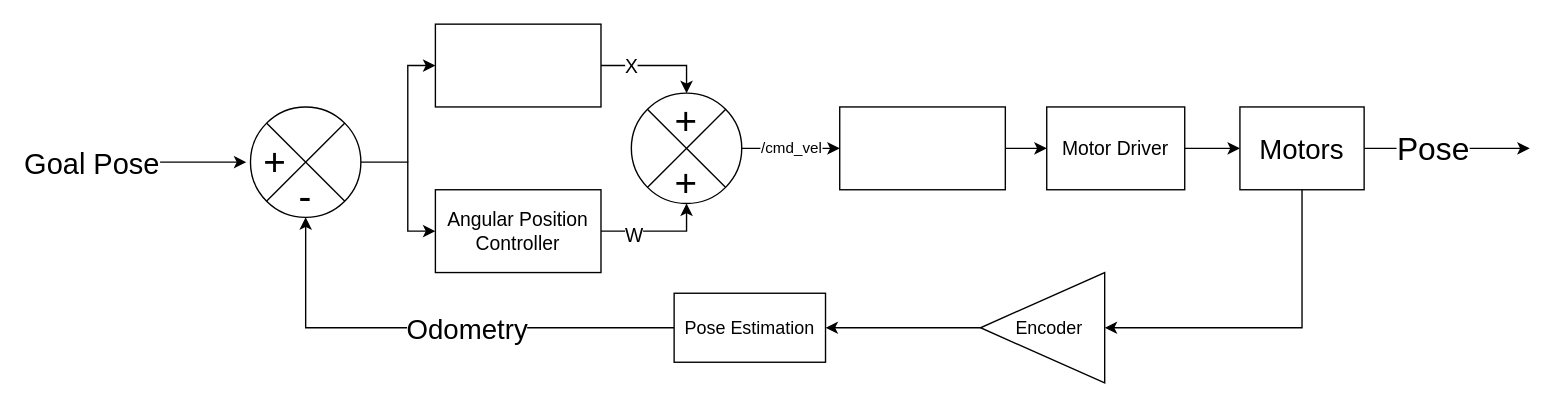
Some shapes in this 1565 by 407 pixel diagram are drawn without their labels. Here are the shapes that lost their labels. From the top down, the centre of each, then its label:
At (x=517, y=65): "Linear Position Controller".
At (x=921, y=148): "On/Off Velocity Controller".
